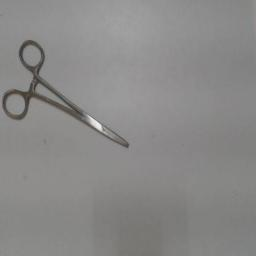Mayo Needle Holder: (2, 34, 136, 156)
